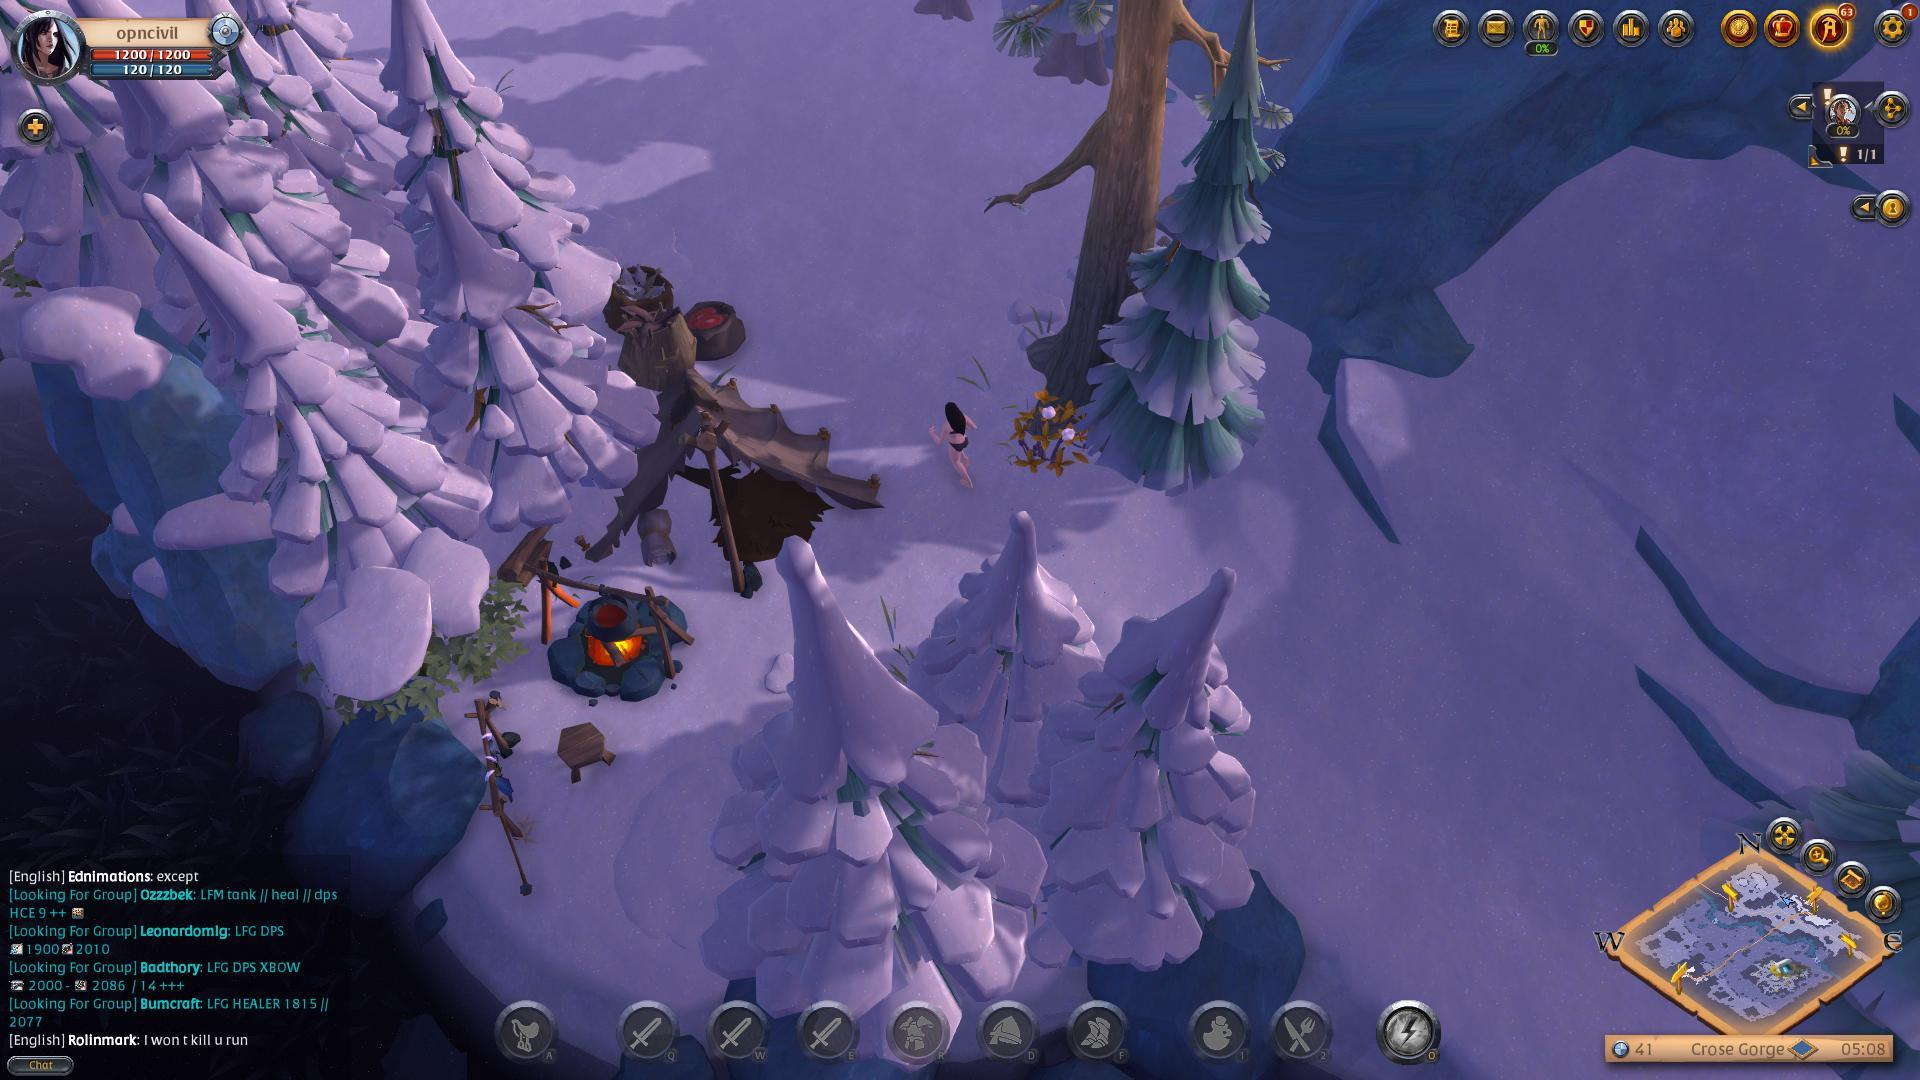cotton: (1005, 389, 1091, 477)
